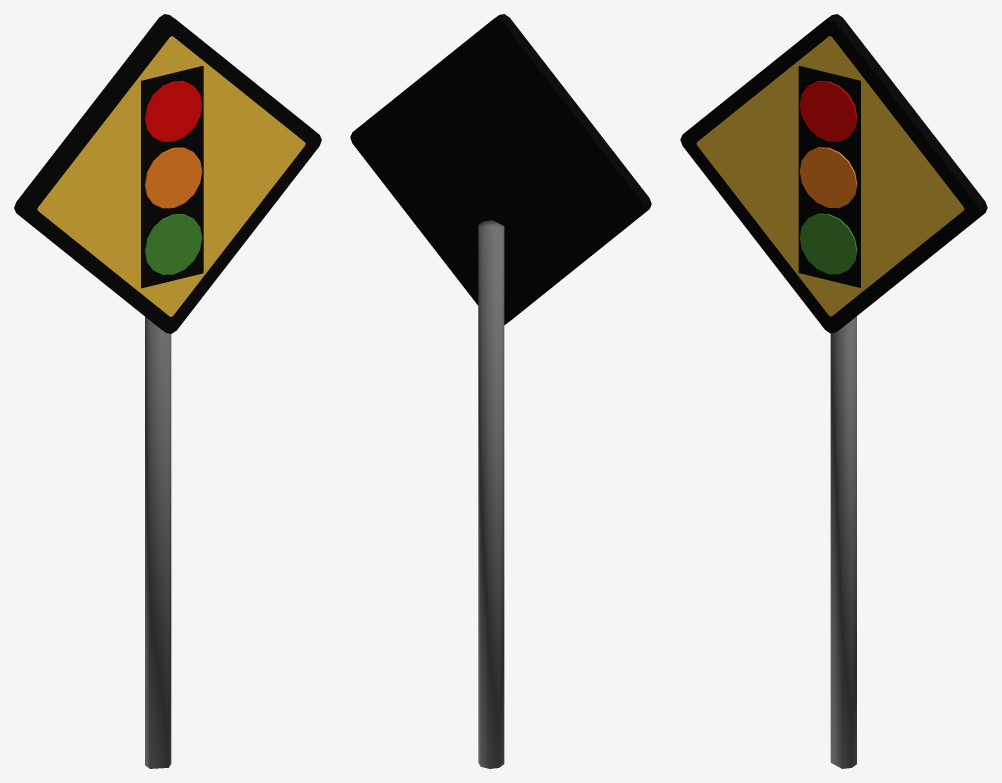
Rendered from Prop_StreetSign_TrafficSignals.fbx.
The picture shows the model from 3 angles, left to right: view 1: azimuth 30°, elevation 25°; view 2: azimuth 150°, elevation 25°; view 3: azimuth 330°, elevation 25°; orthographic projection. The views are drawn at different scales.
Visible parts, largest first — view 1: Prop_StreetSign_TrafficSignals; view 2: Prop_StreetSign_TrafficSignals; view 3: Prop_StreetSign_TrafficSignals.
Part boxes in pixels (<box>): Prop_StreetSign_TrafficSignals: <box>14,14,321,768</box>; Prop_StreetSign_TrafficSignals: <box>350,14,651,768</box>; Prop_StreetSign_TrafficSignals: <box>680,14,987,768</box>.
Size of the model in its own units: 190 by 455 by 23.98.
